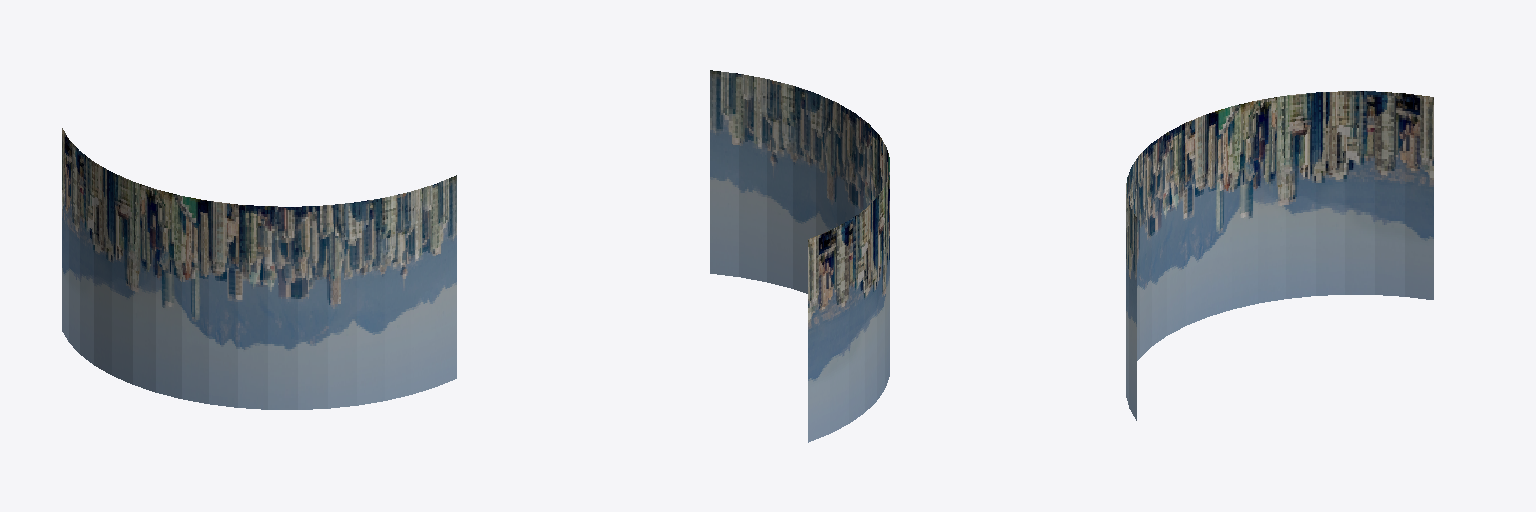
3 renders of one model, left to right at view 1: azimuth 30°, elevation 25°; view 2: azimuth 150°, elevation 25°; view 3: azimuth 270°, elevation 25°, orthographic.
Visible parts, largest first — view 1: Background; view 2: Background; view 3: Background.
Part boxes in pixels (left/top/right/bottom): Background: left=62, top=128, right=456, bottom=409; Background: left=710, top=70, right=889, bottom=442; Background: left=1126, top=91, right=1433, bottom=420.
Size of the model in its own units: 26.14 by 19.66 by 26.96.
Materials: 1 (1 with a texture image).